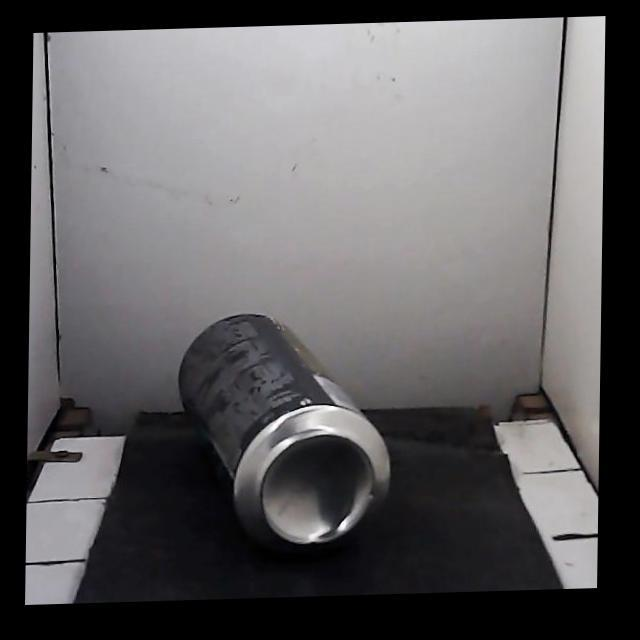metal: (179, 314, 389, 548)
